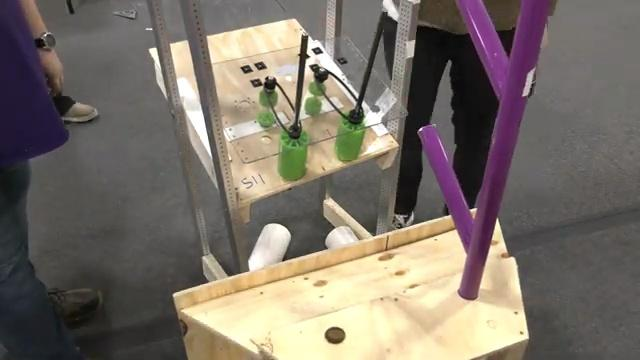CORAL: (246, 221, 291, 271), (326, 226, 358, 250)
